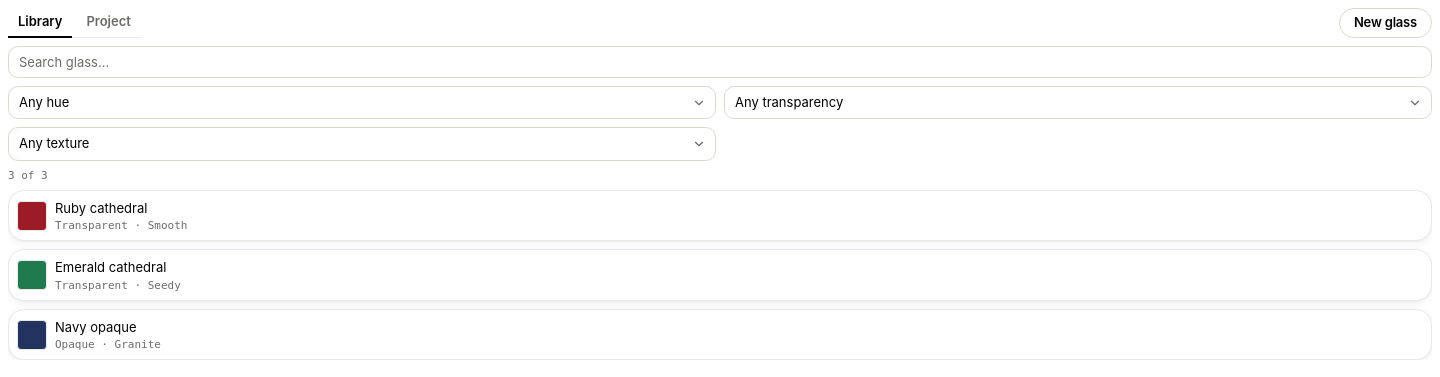
Test: GlassPalette (F-022) › shows library / project tabs and switches scope
Expected: the text "Ruby cathedral" is shown, [55, 200, 147, 216]
Click the tab "Project" at (109,23), box [76, 8, 141, 38]
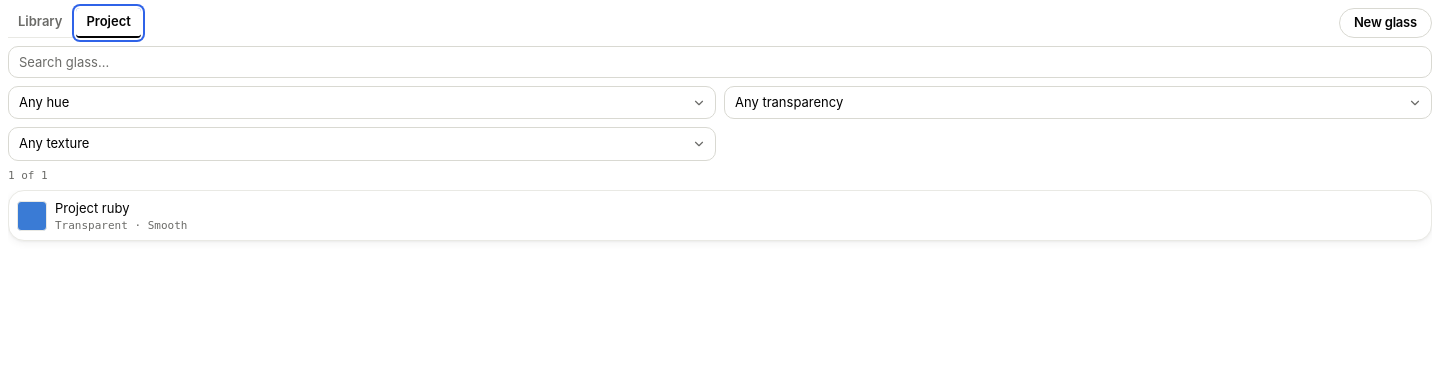
Expected: the text "Project ruby" is shown, [55, 200, 129, 216]
Expected: the button "Ruby cathedral" is gone
